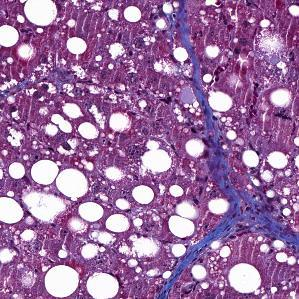fibrosis: (193, 118, 269, 247)
